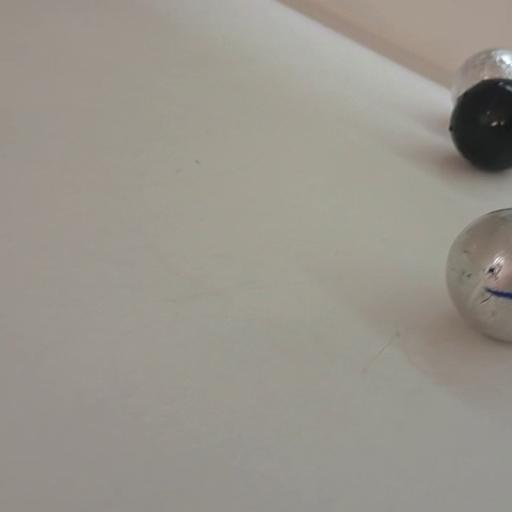alive: (445, 207, 510, 342), (450, 47, 510, 105)
dead: (449, 79, 512, 171)
